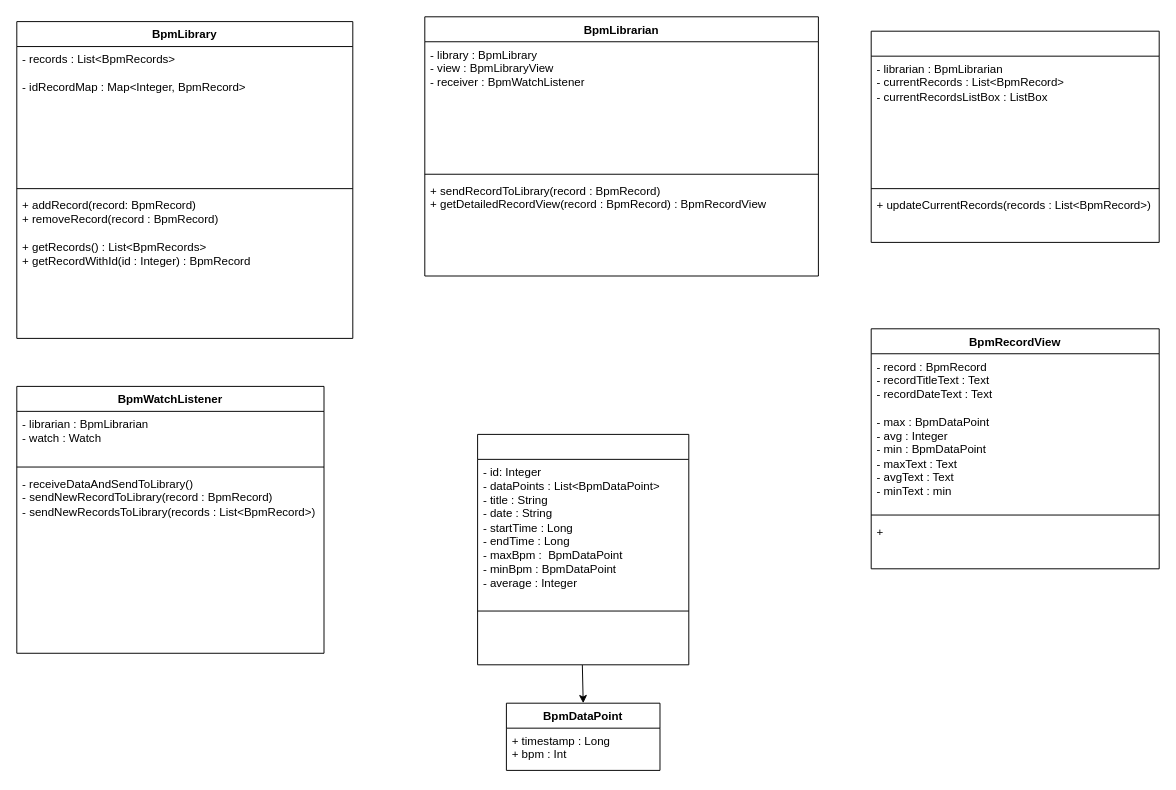
This 1176x790 diagram has some shape labels left out. Here are the shapes that lost their labels. From the top down, the box of each, then its label:
(870, 30, 1159, 242): BpmLibraryView
(477, 433, 689, 665): BpmRecord
